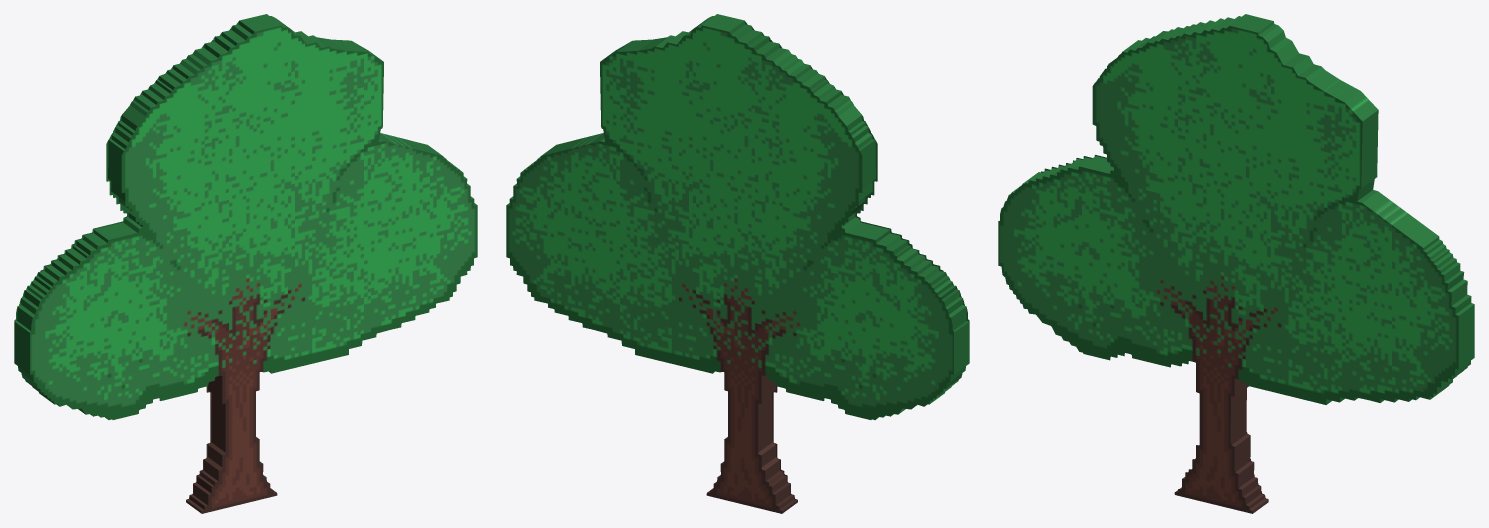
The model's file is Tree.fbx.
The picture shows the model from 3 angles, left to right: view 1: azimuth 30°, elevation 25°; view 2: azimuth 150°, elevation 25°; view 3: azimuth 330°, elevation 25°; orthographic projection. The views are drawn at different scales.
Visible parts, largest first — view 1: objec-2_3000px.001; view 2: objec-2_3000px.001; view 3: objec-2_3000px.001.
Part boxes in pixels (left/top/right/bottom): objec-2_3000px.001: left=14, top=14, right=477, bottom=513; objec-2_3000px.001: left=506, top=14, right=969, bottom=513; objec-2_3000px.001: left=998, top=14, right=1474, bottom=513.
Bounding box in the file's own units: 703 × 704 × 42.17.
